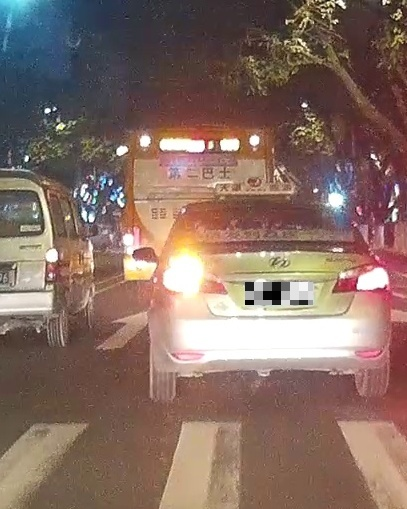L_light: (161, 266, 228, 297)
R_light: (331, 262, 388, 293)
T_light: (250, 207, 280, 213)
night-left: (147, 199, 390, 403)
plate_1: (245, 282, 313, 305)
